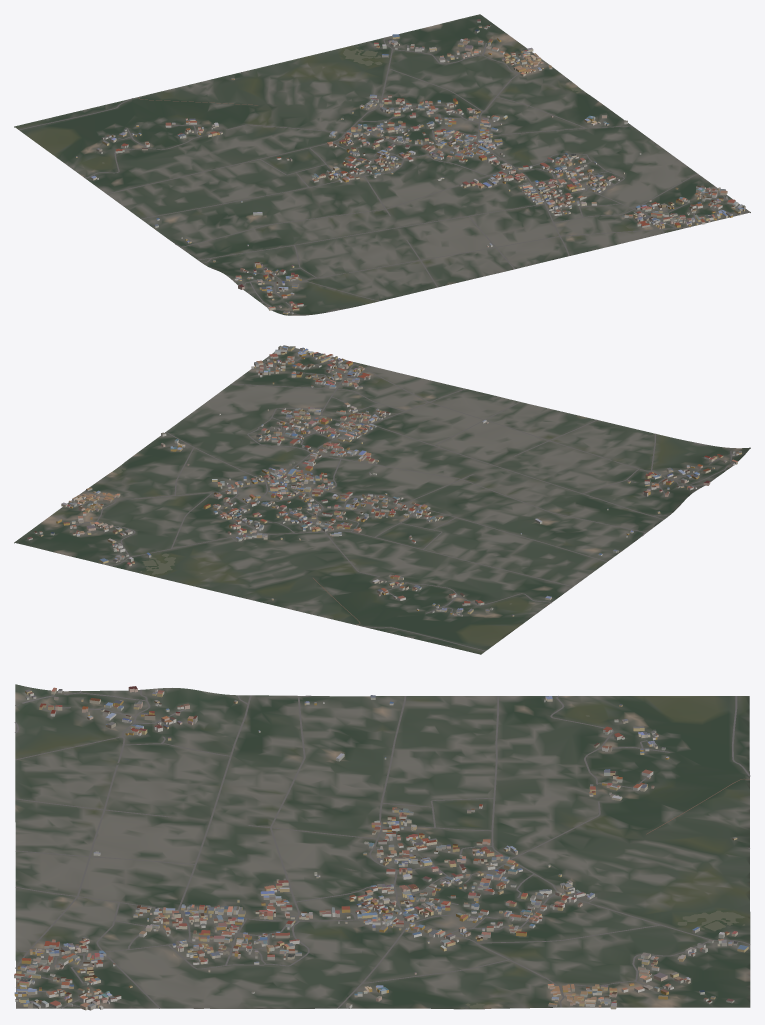
The picture shows the model from 3 angles, top to bottom: view 1: azimuth 30°, elevation 25°; view 2: azimuth 150°, elevation 25°; view 3: azimuth 270°, elevation 25°; orthographic projection. The views are drawn at different scales.
Visible parts, largest first — view 1: ground, buildings, roads; view 2: ground, buildings, roads; view 3: ground, buildings, roads, water.
Boxes of the visible parts, left/top/right/bottom form: ground: left=14, top=14, right=750, bottom=315; buildings: left=76, top=19, right=745, bottom=315; roads: left=19, top=37, right=729, bottom=315; ground: left=14, top=345, right=750, bottom=654; buildings: left=27, top=345, right=741, bottom=616; roads: left=70, top=355, right=731, bottom=651; ground: left=15, top=684, right=750, bottom=1009; buildings: left=14, top=686, right=748, bottom=1010; roads: left=14, top=689, right=750, bottom=1008; water: left=460, top=715, right=745, bottom=1008.
Bounding box in the file's own units: 1412 × 36.7 × 1407.
